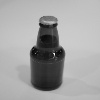beer: (29, 14, 67, 92)
